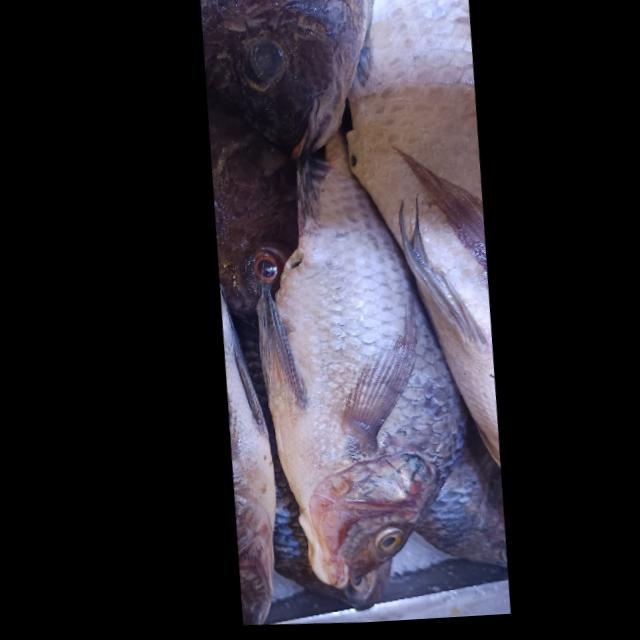Tilapia: (226, 113, 496, 597)
